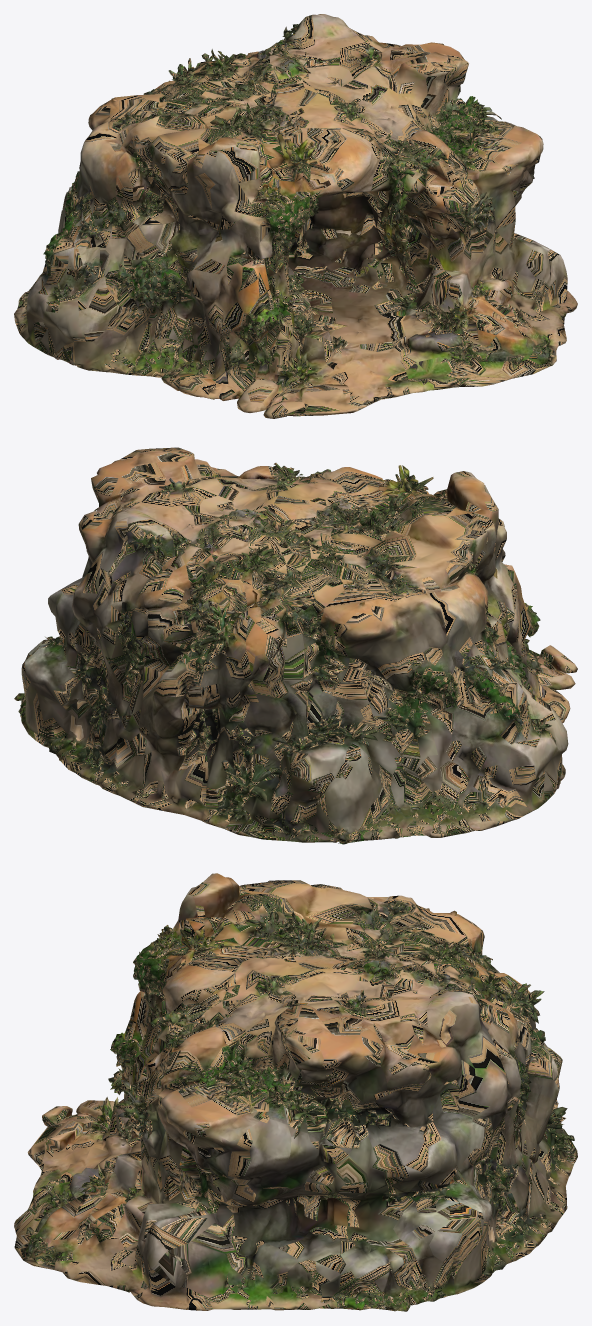
The model's file is Cave_Entrance.glb.
3 views of the same model, one above another, from view 1: azimuth 30°, elevation 25°; view 2: azimuth 150°, elevation 25°; view 3: azimuth 270°, elevation 25° (orthographic). The views are drawn at different scales.
Visible parts, largest first — view 1: Cave_Entrance; view 2: Cave_Entrance; view 3: Cave_Entrance.
Part boxes in pixels (bbox=[...]): Cave_Entrance: bbox=[14, 14, 577, 418]; Cave_Entrance: bbox=[14, 447, 577, 844]; Cave_Entrance: bbox=[14, 873, 577, 1311].
Size of the model in its own units: 1.9 by 0.8644 by 1.77.
Materials: 1 (1 with a texture image).
